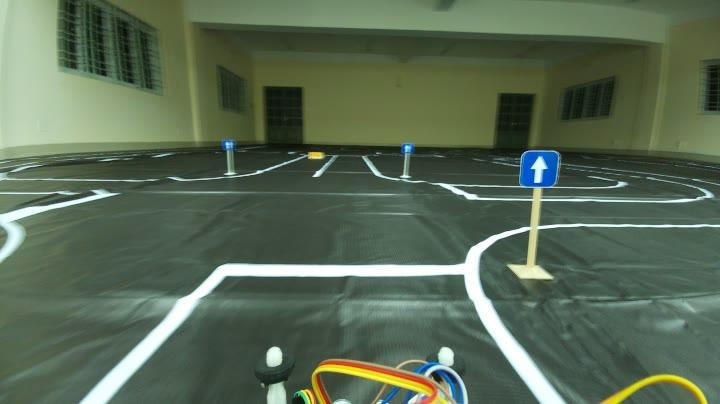onewayroad: (507, 145, 558, 193), (216, 139, 236, 152), (402, 142, 415, 156)
roadblock: (304, 150, 324, 158)
